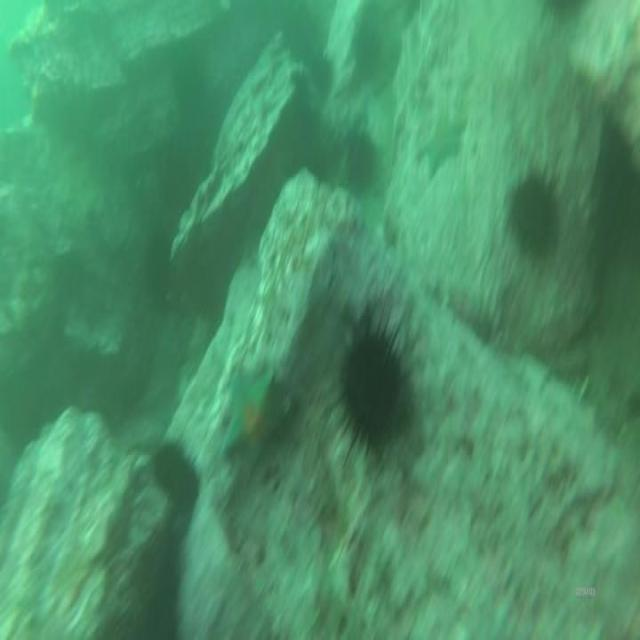echinus: (326, 305, 412, 460), (506, 161, 562, 269), (148, 436, 204, 512), (141, 224, 177, 320), (339, 128, 382, 201), (172, 52, 212, 125), (306, 50, 338, 100), (540, 0, 590, 32)
starfish: (220, 370, 284, 476), (414, 107, 468, 185)
